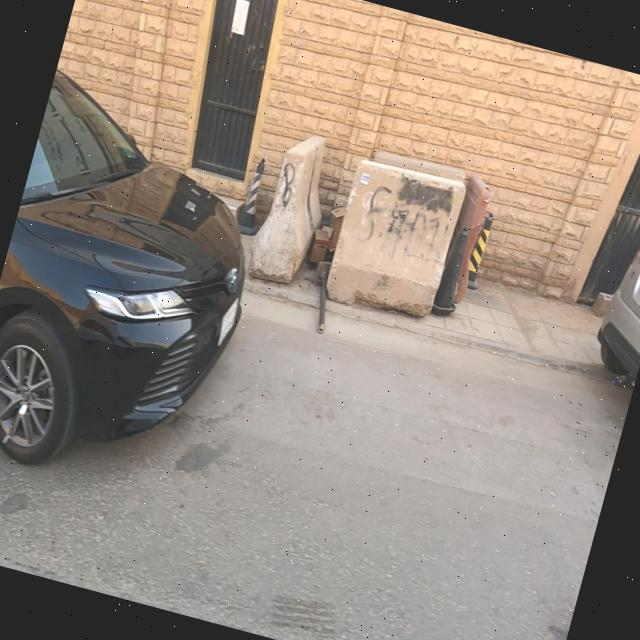Graffiti: (358, 168, 463, 272), (273, 163, 300, 211)
